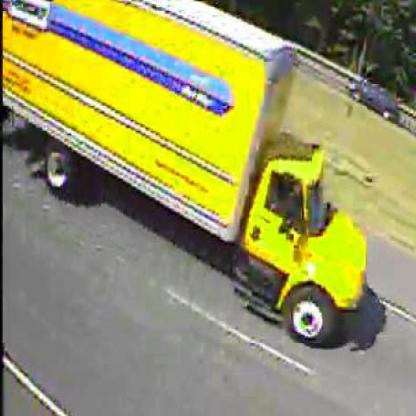truck: (4, 3, 369, 346)
